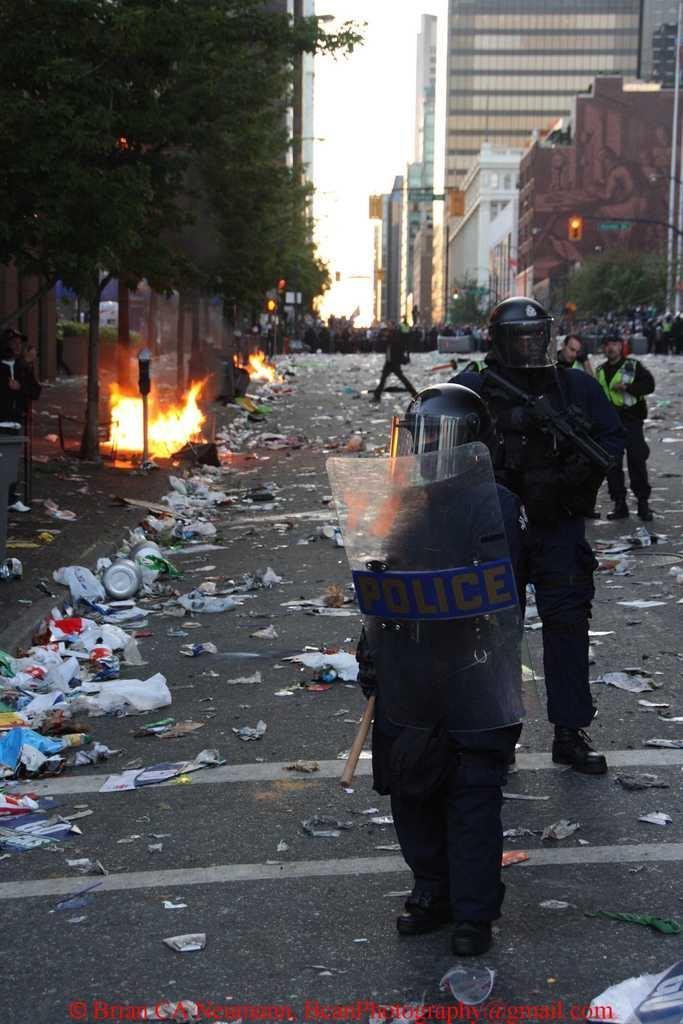fire: (106, 398, 201, 456), (241, 349, 269, 382)
